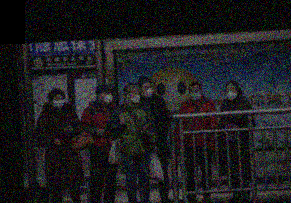with_mask: (51, 95, 65, 109), (189, 87, 202, 102), (225, 86, 238, 101), (129, 90, 141, 105), (101, 91, 114, 104), (141, 84, 153, 98)
